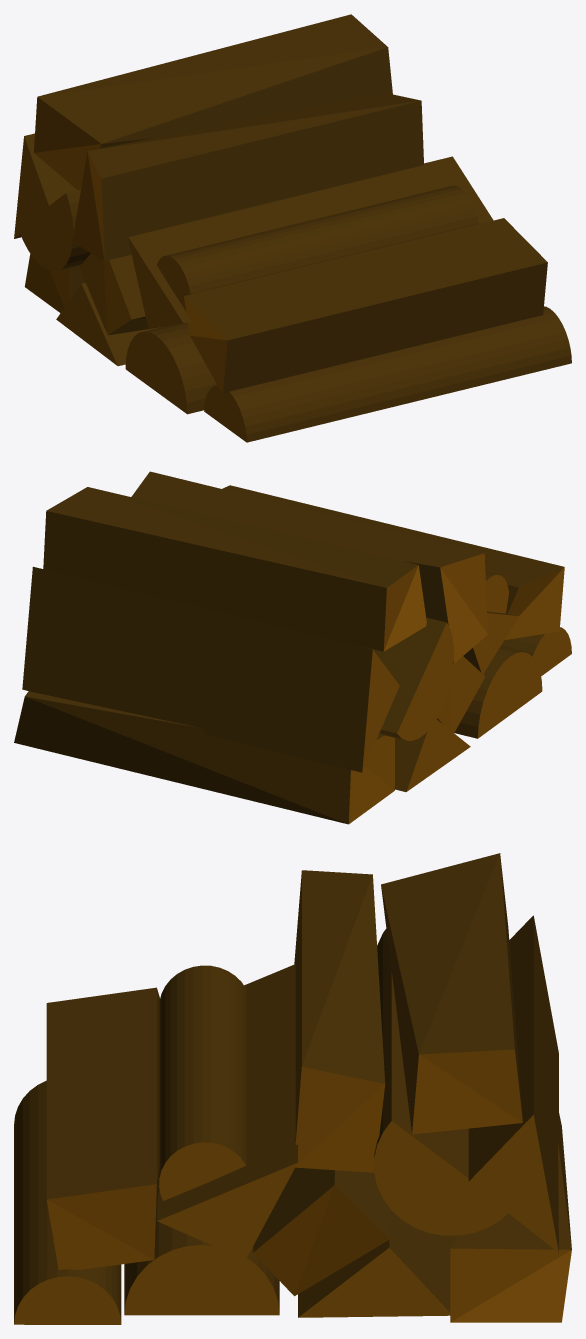
File: WoodPile.fbx
The picture shows the model from 3 angles, top to bottom: view 1: azimuth 30°, elevation 25°; view 2: azimuth 150°, elevation 25°; view 3: azimuth 270°, elevation 25°; orthographic projection. The views are drawn at different scales.
Parts seen in each view (by area): view 1: Cube.004, Cube.003, Cube.002, Cylinder.009, Cylinder.008, Cylinder.004, Cylinder.002, Cube.001, Cylinder.006, Cylinder.003, Cylinder.007, Cube; view 2: Cylinder.003, Cube.002, Cube, Cube.003, Cube.004, Cylinder.006, Cylinder.002, Cylinder.007, Cube.001, Cylinder.009, Cylinder.004, Cylinder.008; view 3: Cube.002, Cube.004, Cube.003, Cylinder.008, Cylinder.004, Cylinder.003, Cylinder.006, Cylinder.009, Cube.001, Cube, Cylinder.002, Cylinder.007.
Boxes of the visible parts, x1=… form: Cube.004: x1=184, y1=218, x2=547, y2=394; Cube.003: x1=72, y1=93, x2=423, y2=261; Cube.002: x1=34, y1=14, x2=392, y2=189; Cylinder.009: x1=204, y1=306, x2=571, y2=442; Cylinder.008: x1=157, y1=185, x2=478, y2=311; Cylinder.004: x1=128, y1=156, x2=493, y2=328; Cylinder.002: x1=125, y1=322, x2=216, y2=414; Cube.001: x1=79, y1=253, x2=165, y2=335; Cylinder.006: x1=18, y1=189, x2=90, y2=271; Cylinder.003: x1=14, y1=133, x2=76, y2=238; Cylinder.007: x1=56, y1=282, x2=161, y2=366; Cube: x1=24, y1=254, x2=85, y2=312; Cylinder.003: x1=22, y1=566, x2=399, y2=772; Cube.002: x1=43, y1=487, x2=426, y2=651; Cube: x1=14, y1=691, x2=394, y2=824; Cube.003: x1=131, y1=471, x2=487, y2=663; Cube.004: x1=222, y1=485, x2=564, y2=639; Cylinder.006: x1=363, y1=617, x2=453, y2=740; Cylinder.002: x1=454, y1=646, x2=542, y2=738; Cylinder.007: x1=394, y1=719, x2=470, y2=791; Cube.001: x1=437, y1=656, x2=485, y2=732; Cylinder.009: x1=500, y1=627, x2=571, y2=676; Cylinder.004: x1=463, y1=611, x2=518, y2=673; Cylinder.008: x1=485, y1=571, x2=508, y2=613; Cube.002: x1=381, y1=853, x2=522, y2=1134; Cube.004: x1=46, y1=987, x2=159, y2=1269; Cube.003: x1=294, y1=870, x2=385, y2=1172; Cylinder.008: x1=159, y1=965, x2=246, y2=1200; Cylinder.004: x1=157, y1=964, x2=297, y2=1260; Cylinder.003: x1=468, y1=915, x2=558, y2=1252; Cylinder.006: x1=374, y1=929, x2=507, y2=1235; Cylinder.009: x1=14, y1=1080, x2=121, y2=1324; Cube.001: x1=253, y1=1167, x2=391, y2=1296; Cube: x1=450, y1=1113, x2=571, y2=1322; Cylinder.002: x1=124, y1=1222, x2=279, y2=1315; Cylinder.007: x1=298, y1=1211, x2=450, y2=1317.
Size of the model in its own units: 60.32 by 34.18 by 65.08.
